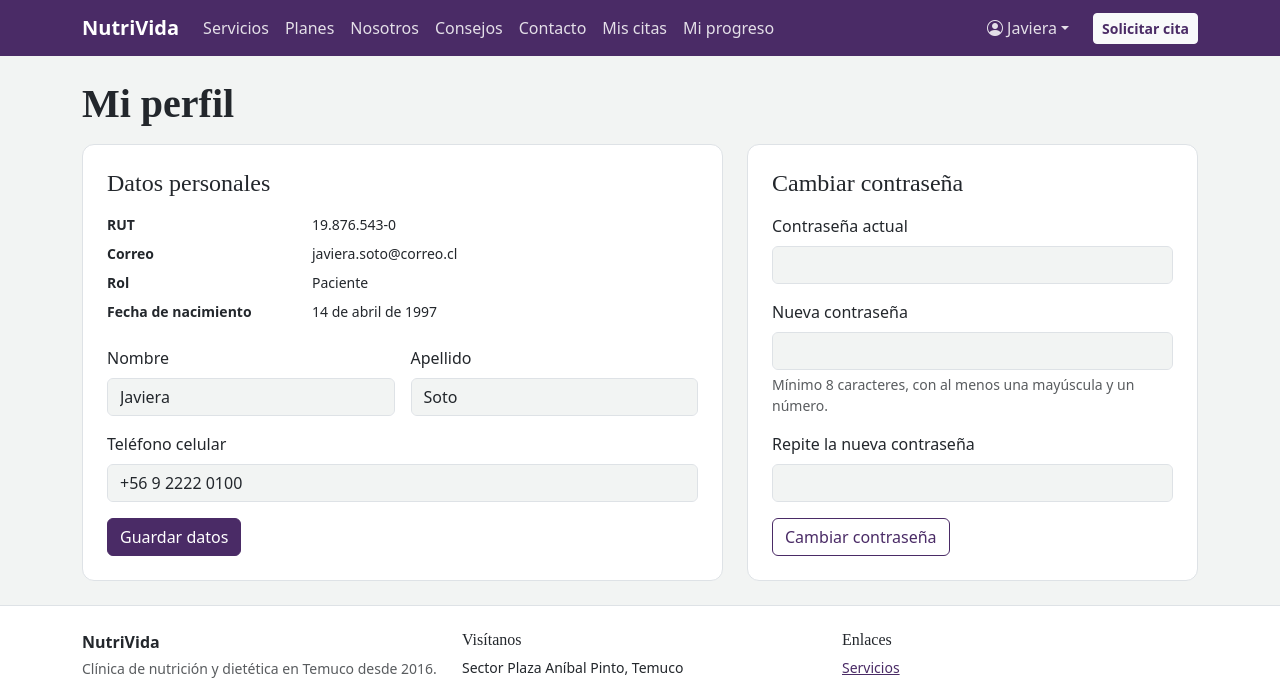
it: Perfil › guarda los datos, los mantiene y la barra superior muestra el nombre nuevo
The image size is (1280, 679).
Expected: the text "19.876.543-0" is shown, [312,215,396,234]
Replace the text in the field labelled "Nombre" with "Javiera Andrea". click: (251, 397)
box: [107,378,394,416]
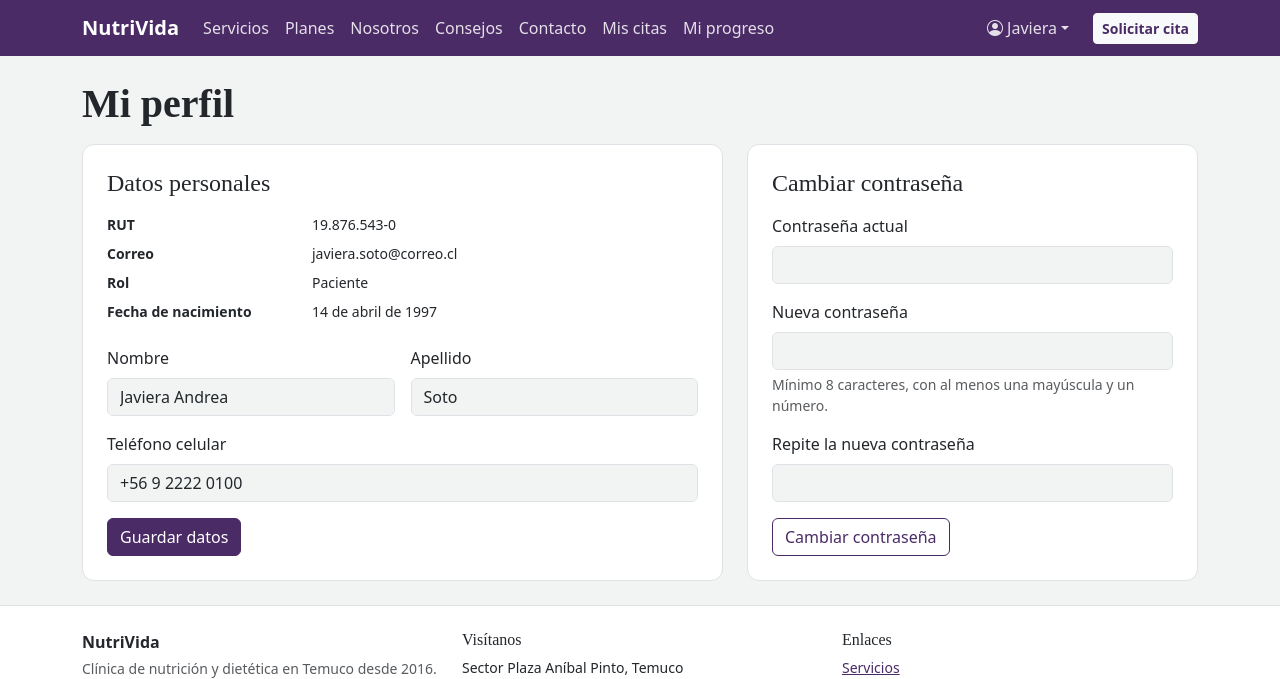
Click the button "Guardar datos". click: (174, 537)
box: [107,518,241,556]
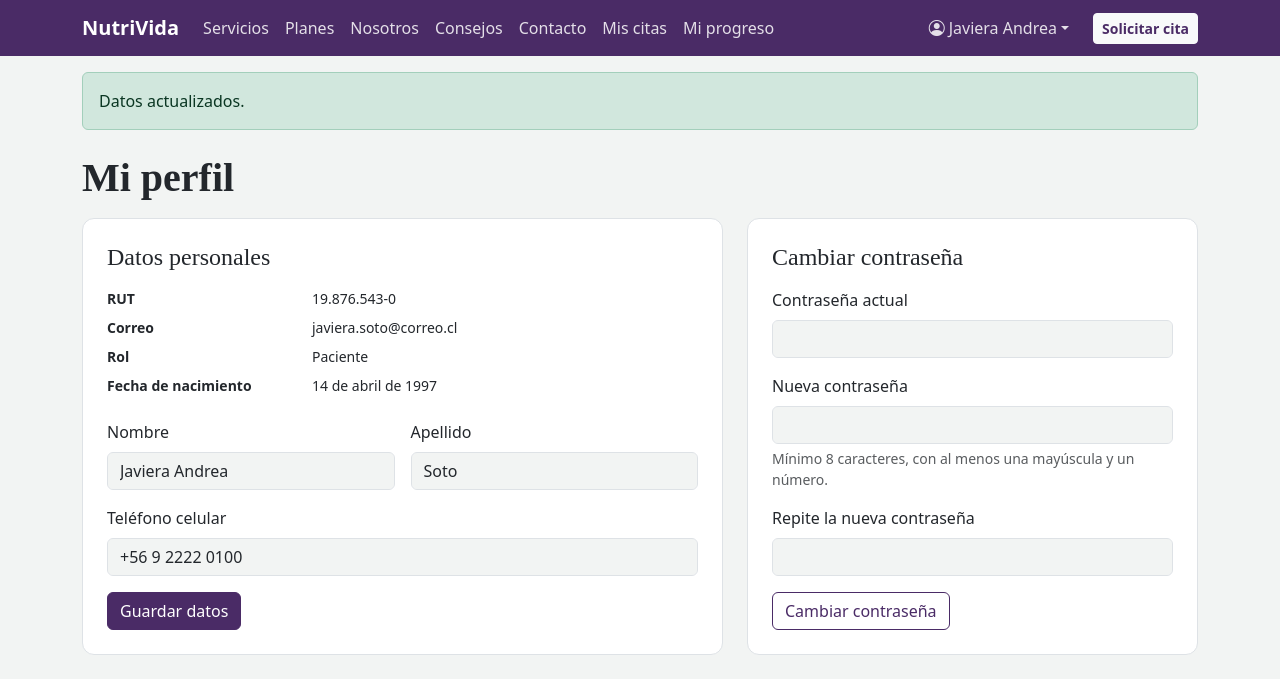
Expected: the message reads "Datos actualizados.", [99,90,244,112]
Expected: the button "Javiera Andrea" is shown, [921,8,1077,48]
